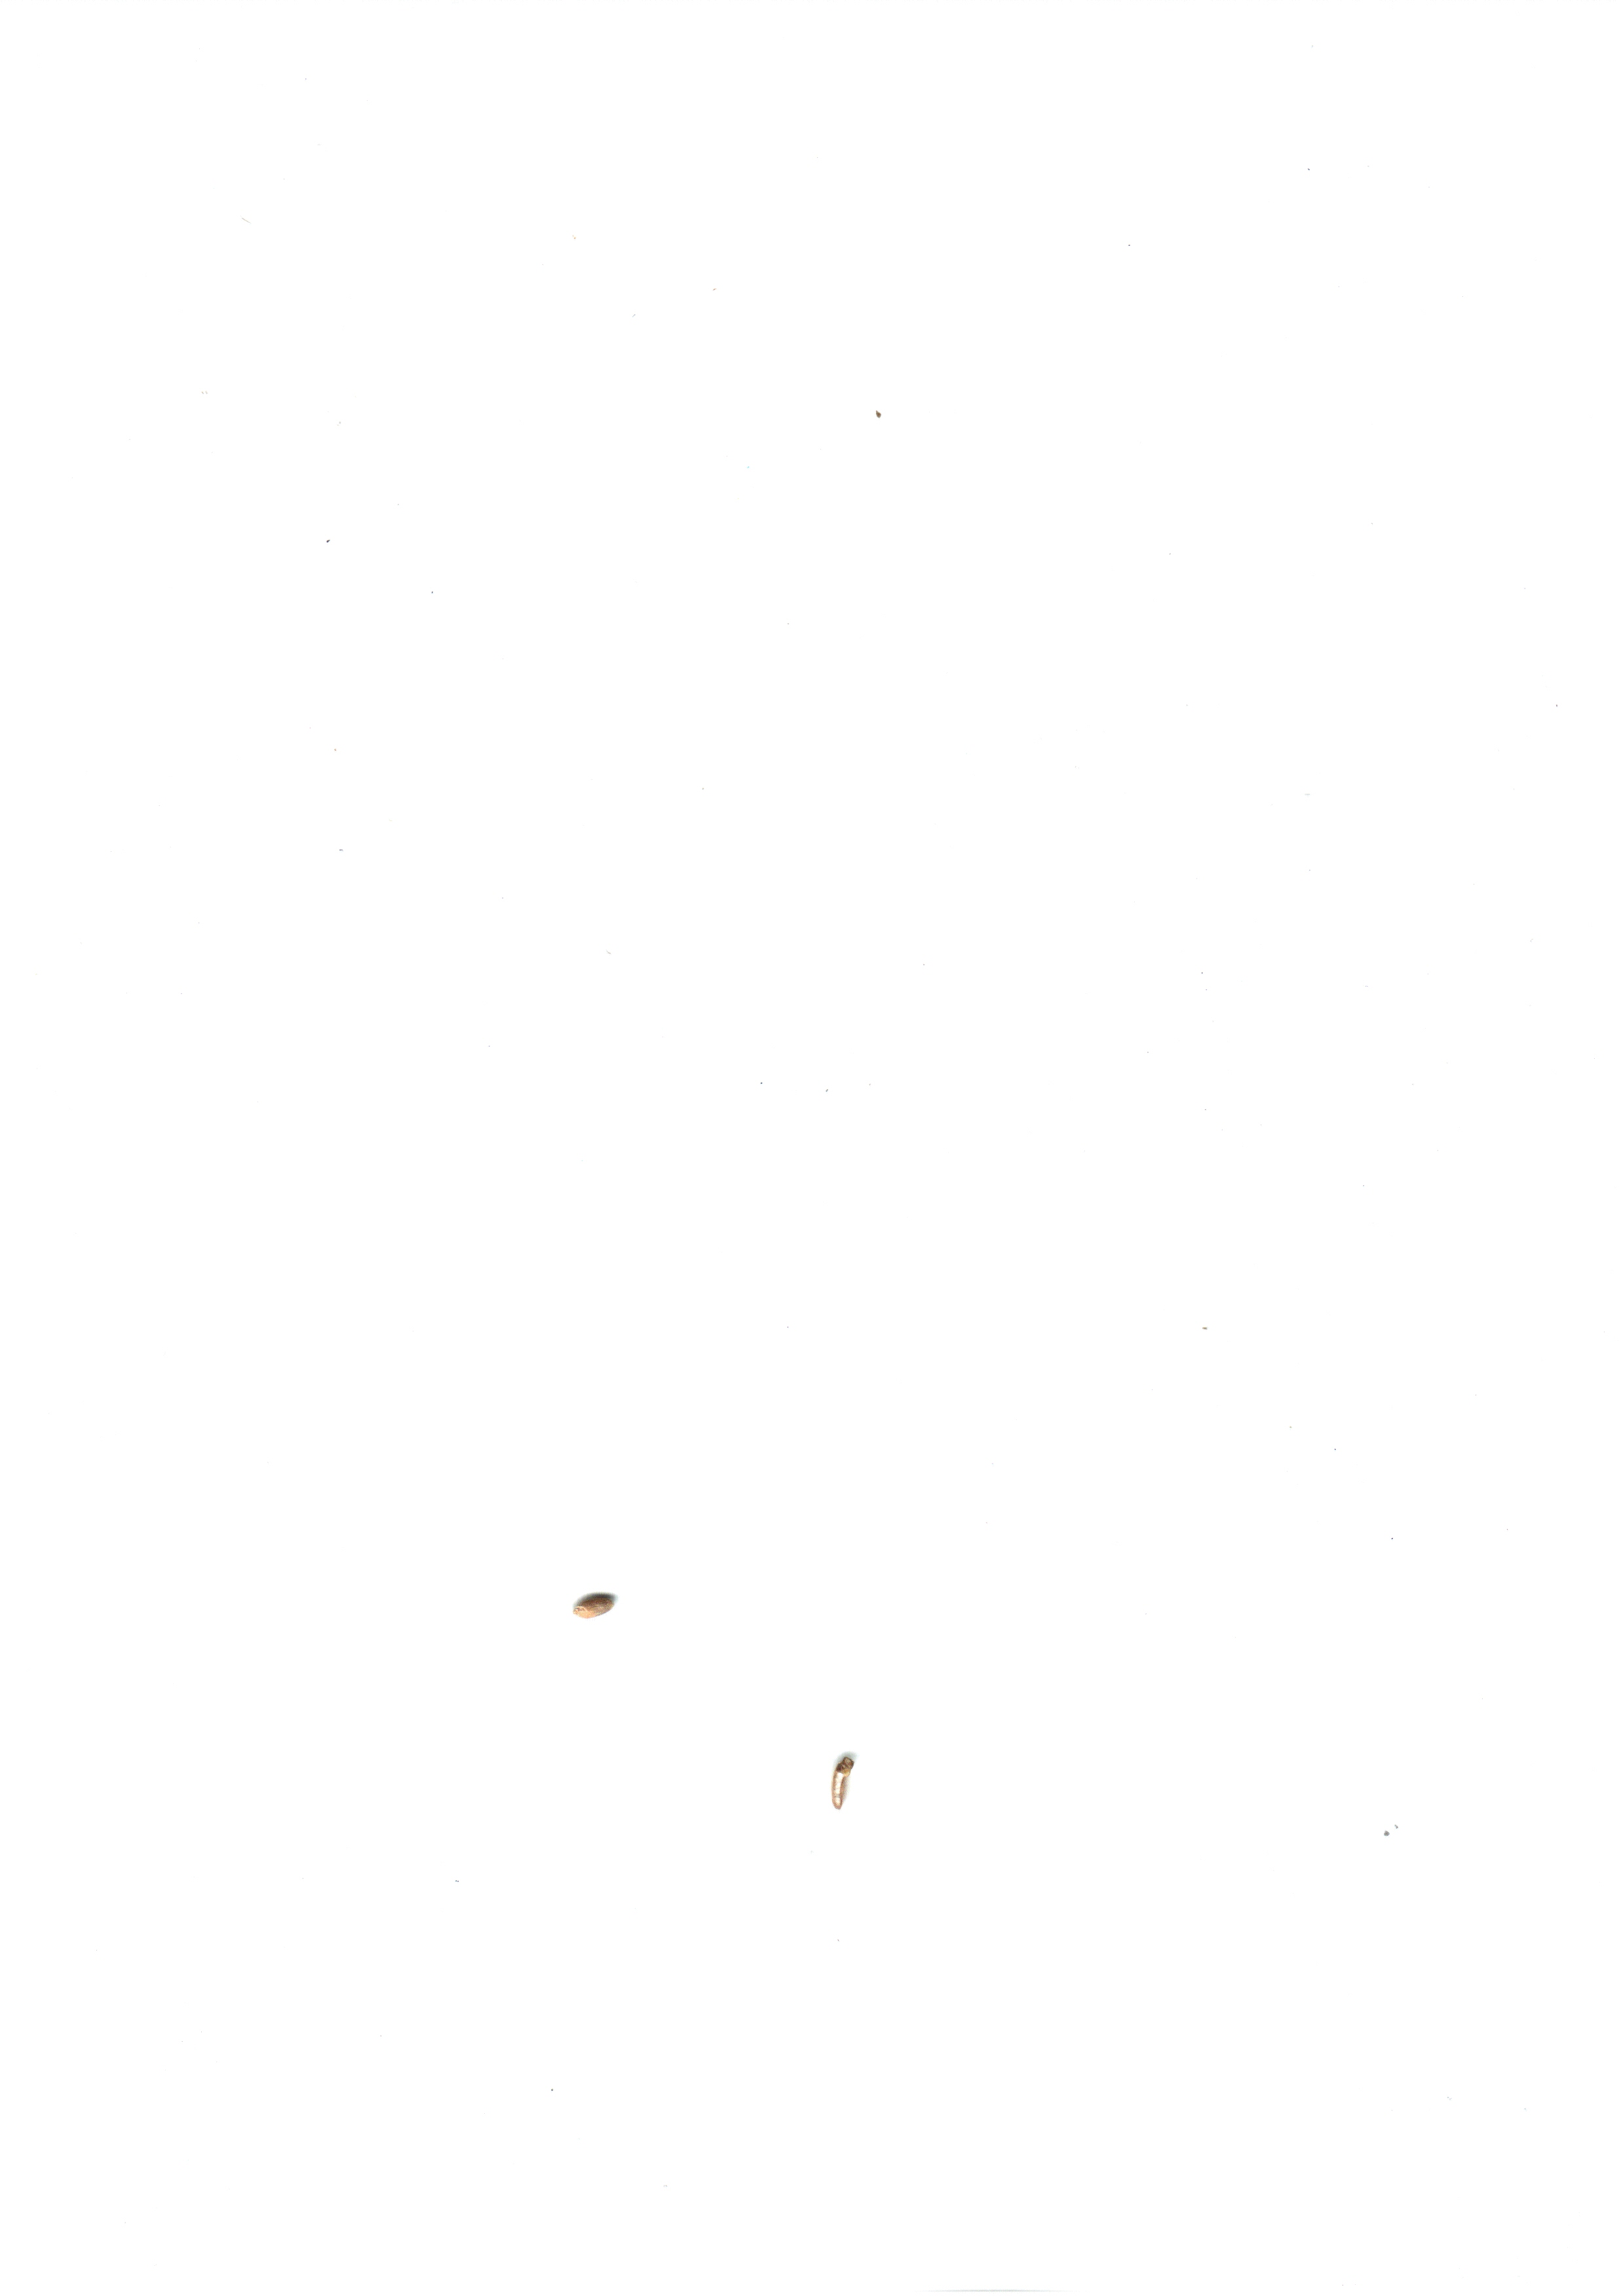grains_2mm: (806, 1747, 887, 1826), (555, 1562, 636, 1641)
